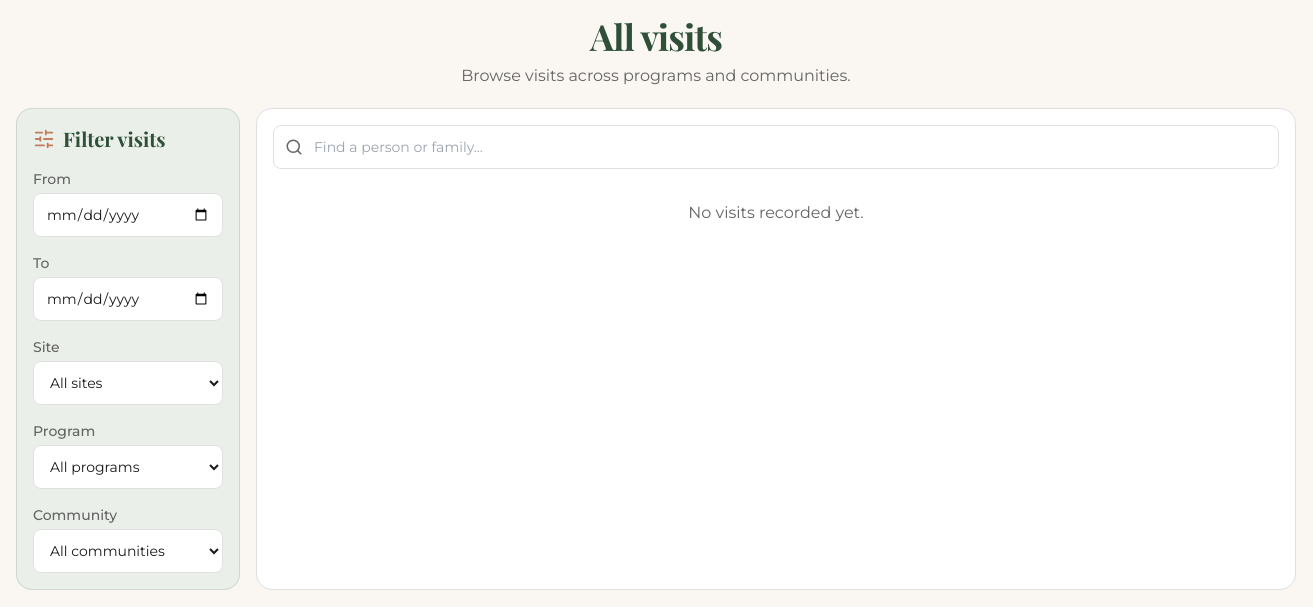
it: VisitsPage › shows a useful empty message when filters have no matches
The width and height of the screenshot is (1313, 607).
Type "nobody" into the search field at (776, 147), box [273,125,1279,169]
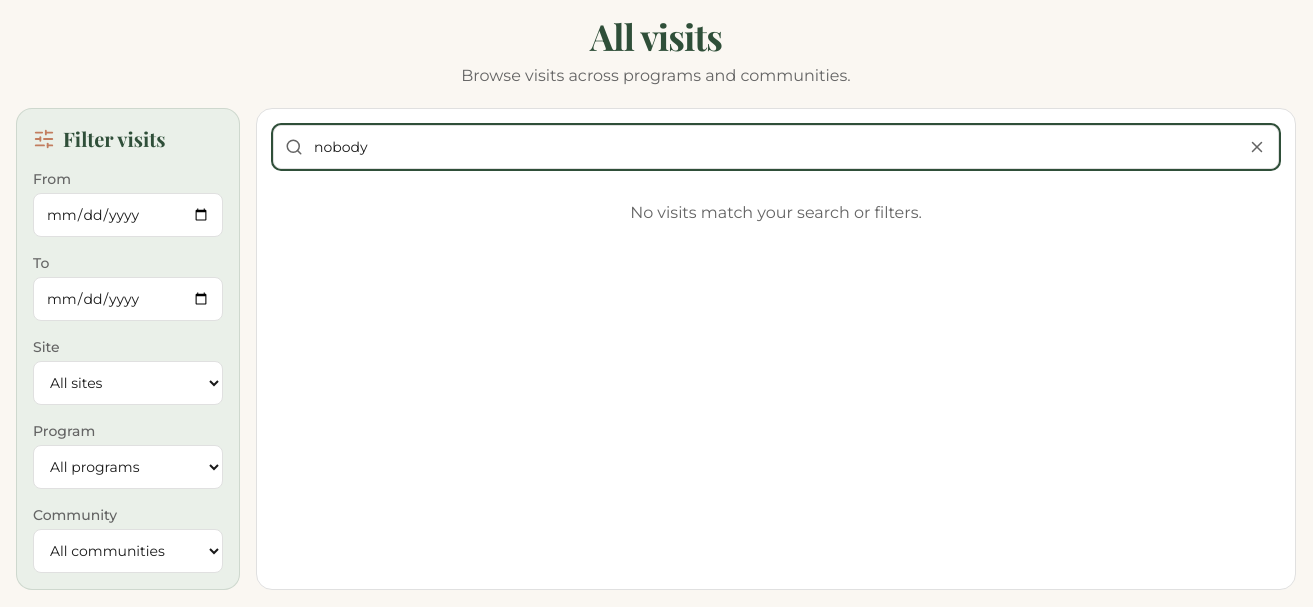
Expected: the text "No visits match your search or filters." is shown, [630,203,922,222]
